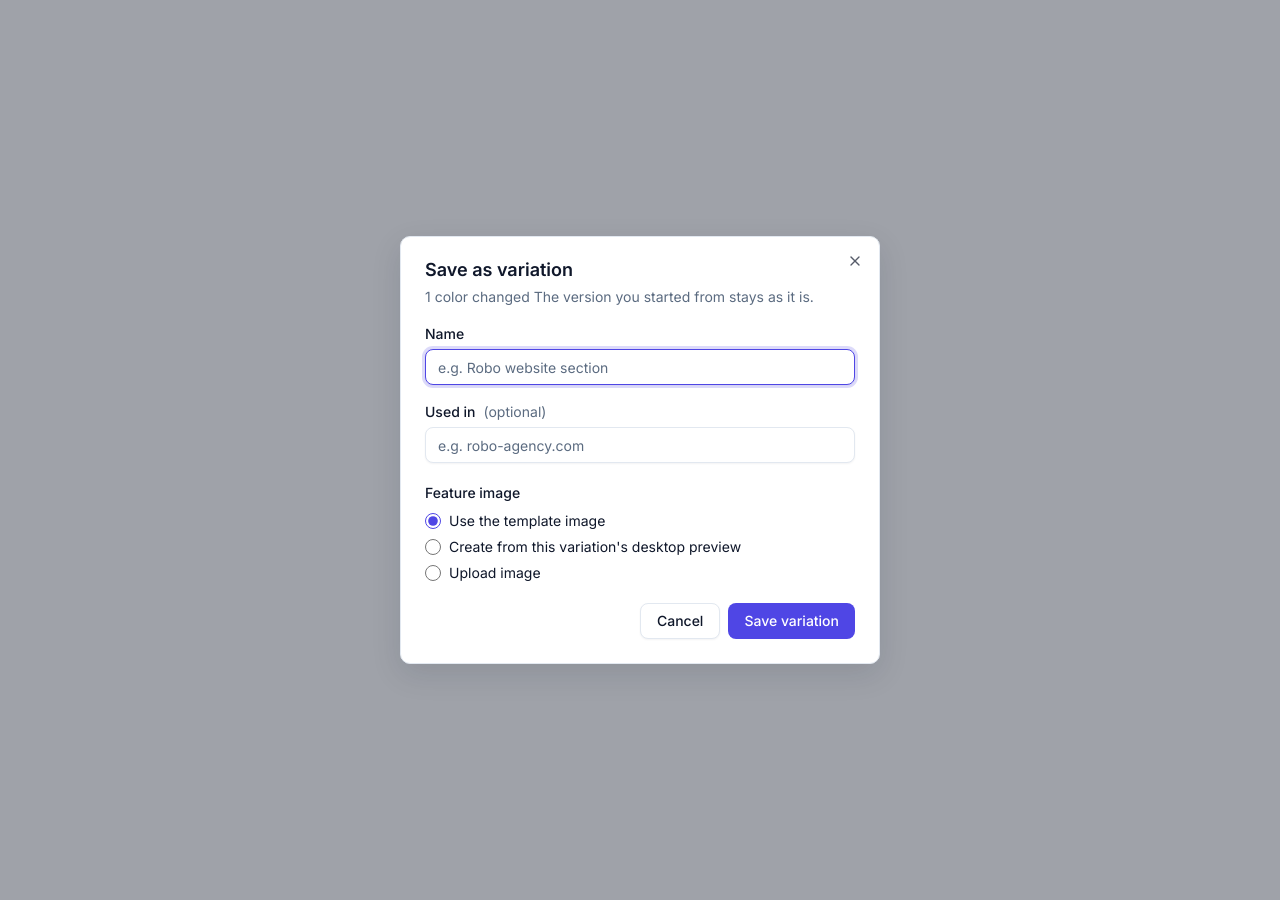
Test: SaveVariationDialog › shows the summary and requires a name
Expected: the text "1 color changed The version you started from stays as it is." is shown, 425,287 -> 855,307
What coordinates should you click on to do the following:
click the button "Save variation"
I would click on:
 (792, 621)
Its box is 728,603 -> 855,639.
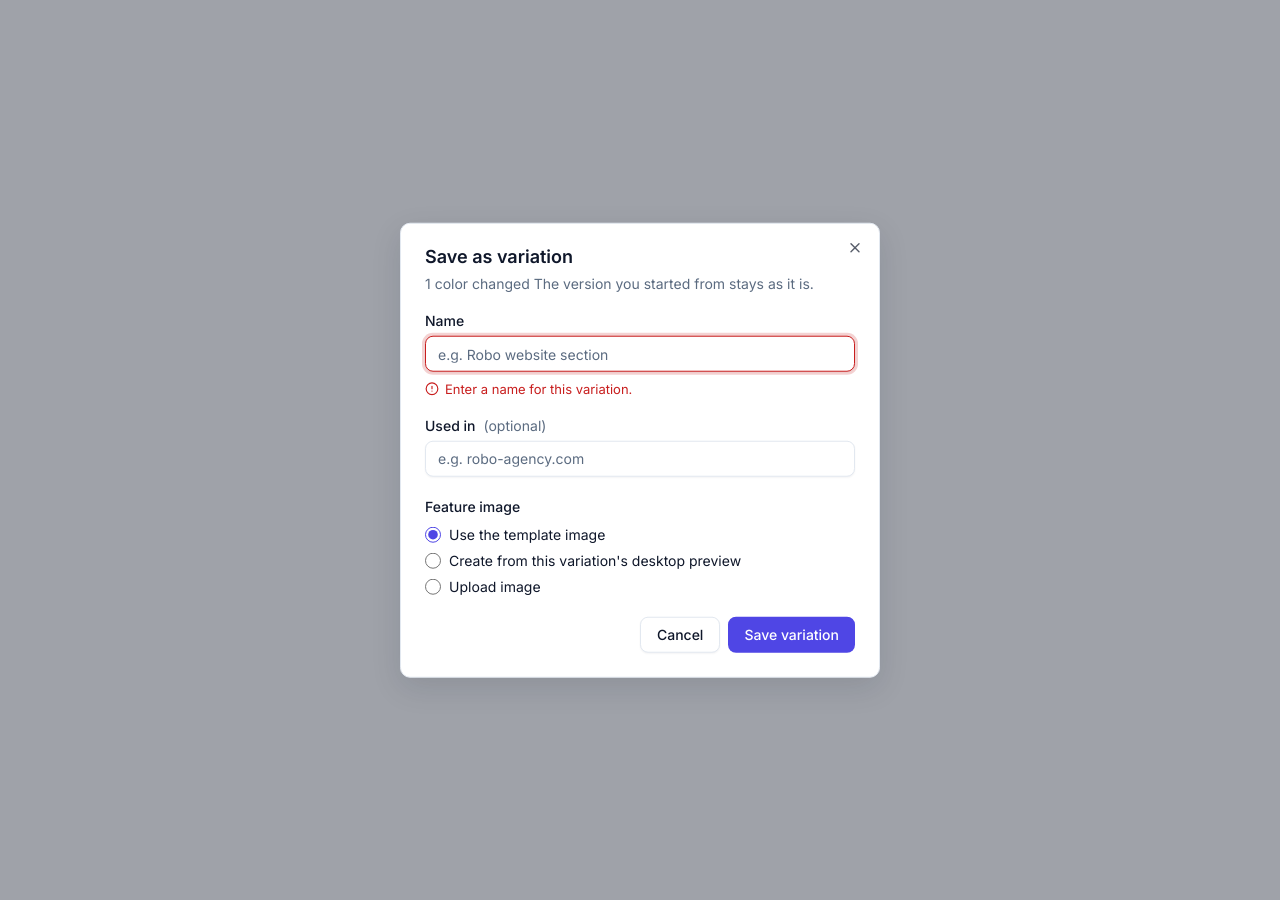
Expected: the message reads "Enter a name for this variation.", 445,381 -> 632,397
